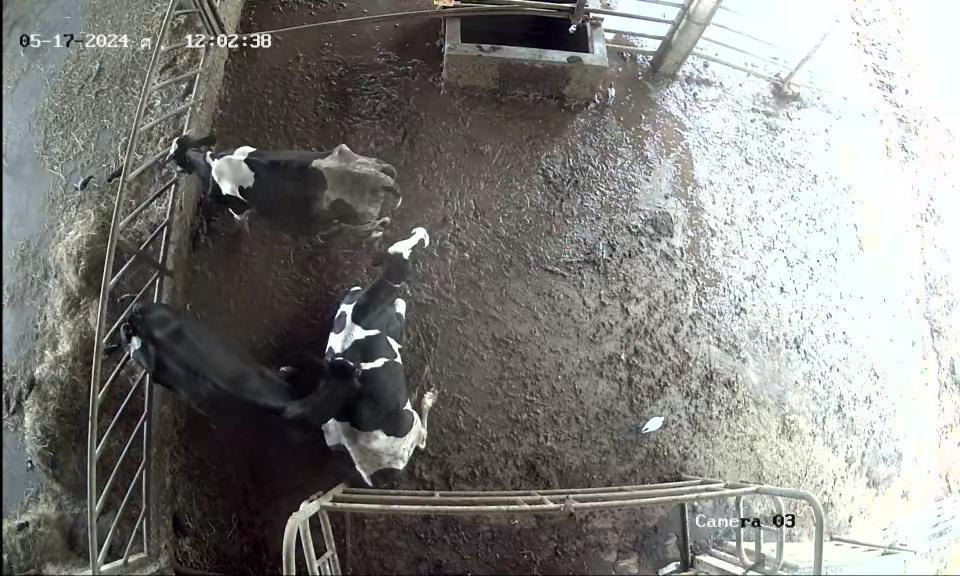lay: (330, 226, 448, 487)
stand: (125, 301, 376, 460), (170, 133, 410, 243)
